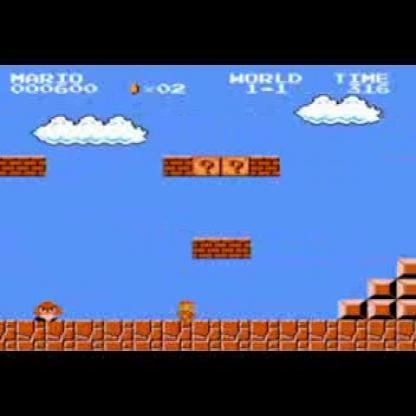Goomba: (31, 299, 65, 323)
